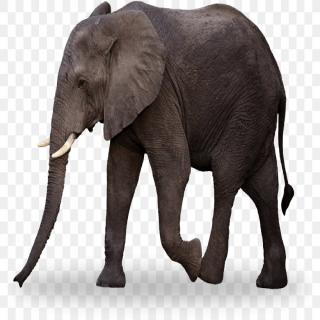Elephant: (14, 2, 302, 301)
